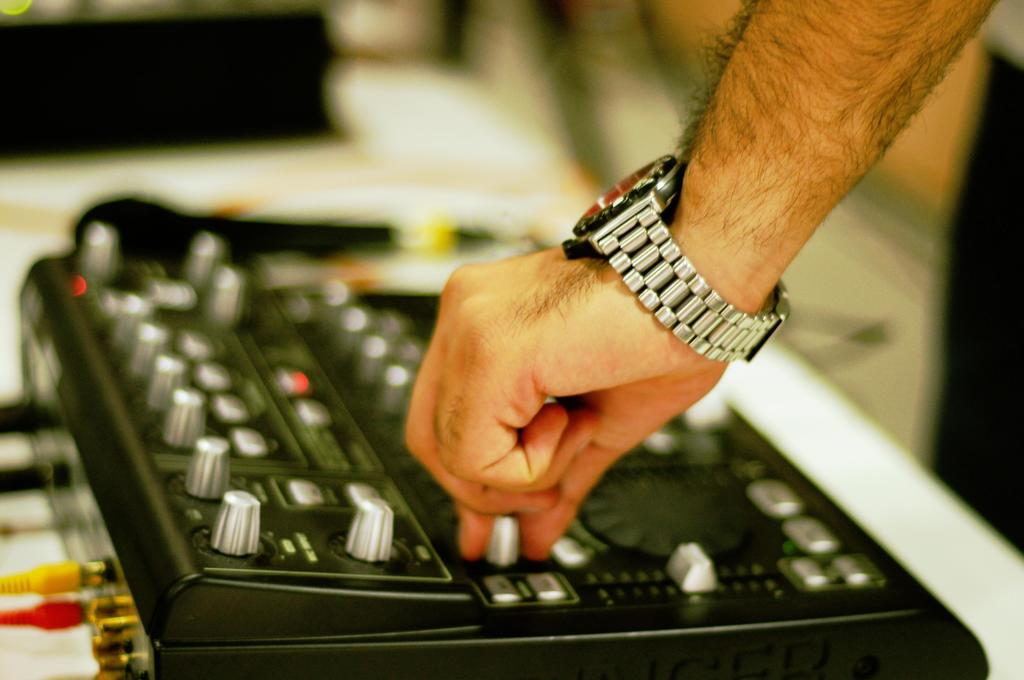watch: (561, 150, 789, 360)
